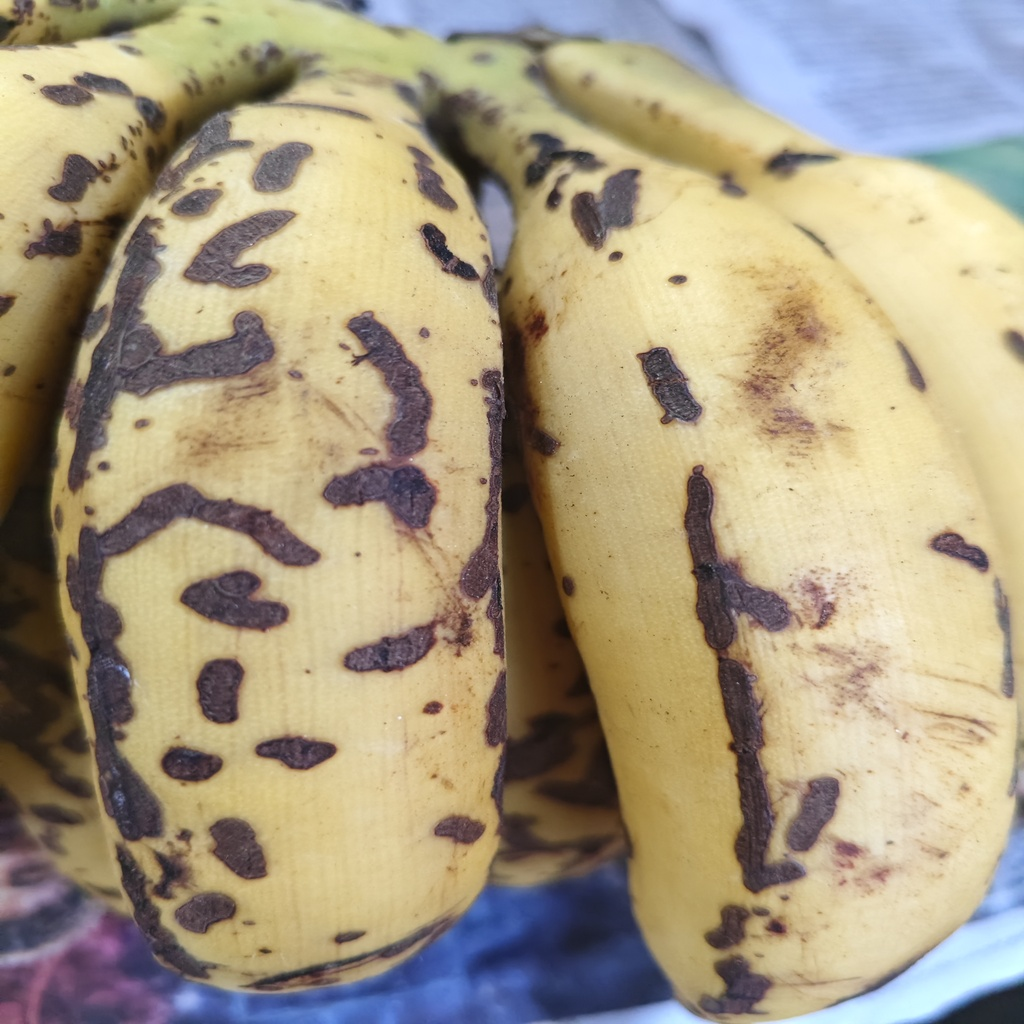unhealthy: (496, 209, 1018, 1020), (49, 72, 507, 985)
